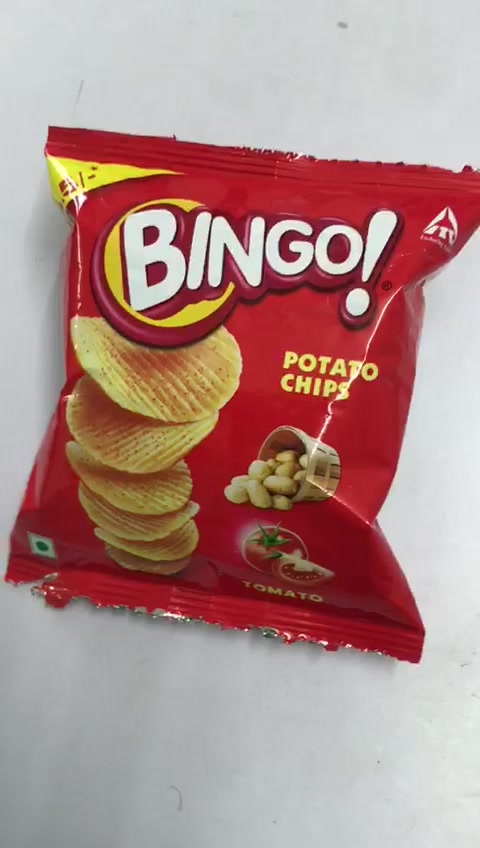bingo: (5, 115, 480, 661)
